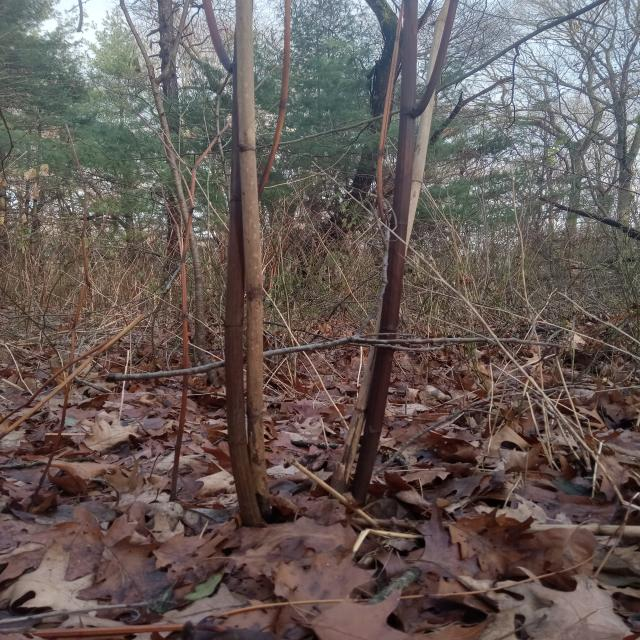knotweed-stems: (334, 0, 459, 507), (222, 0, 272, 528)
tree trunks: (118, 0, 205, 503)
